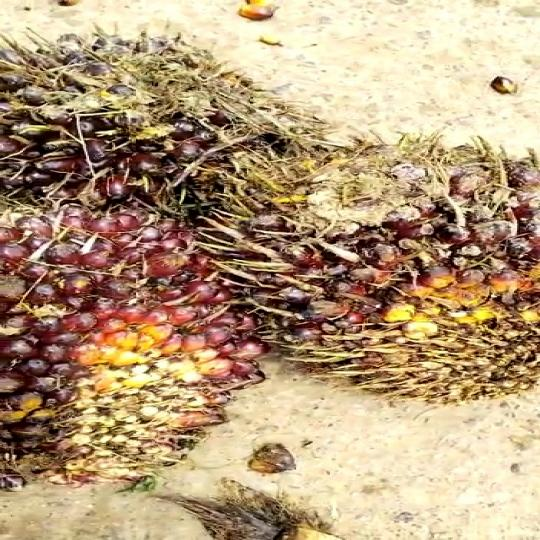kurang masak: (190, 133, 540, 407), (0, 201, 264, 508), (0, 23, 271, 226)
